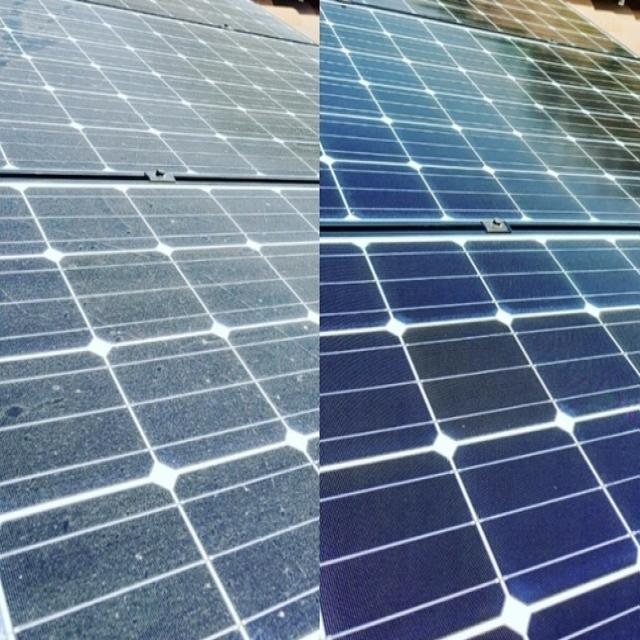clean-solar-panel: (320, 2, 640, 638)
